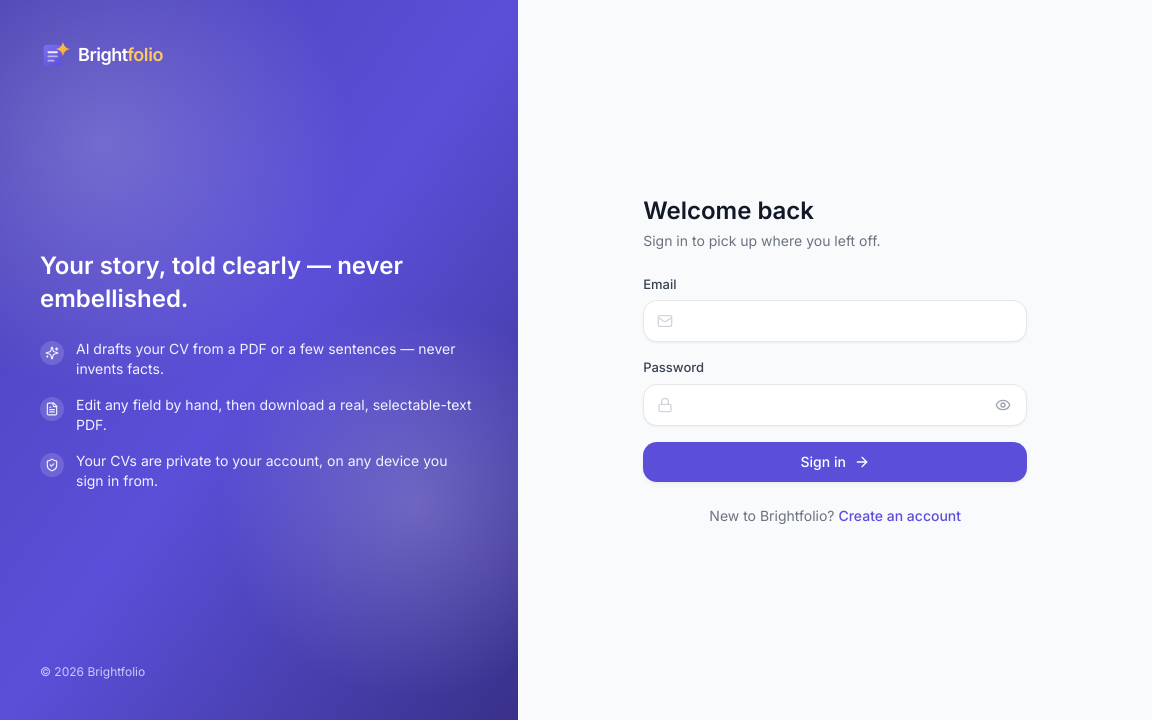
Test: LoginPage › shows the server's error message when sign-in fails
The width and height of the screenshot is (1152, 720).
Type "jane@example.com" into the field labelled "Email" at point(835, 321), box [643,300,1027,342]
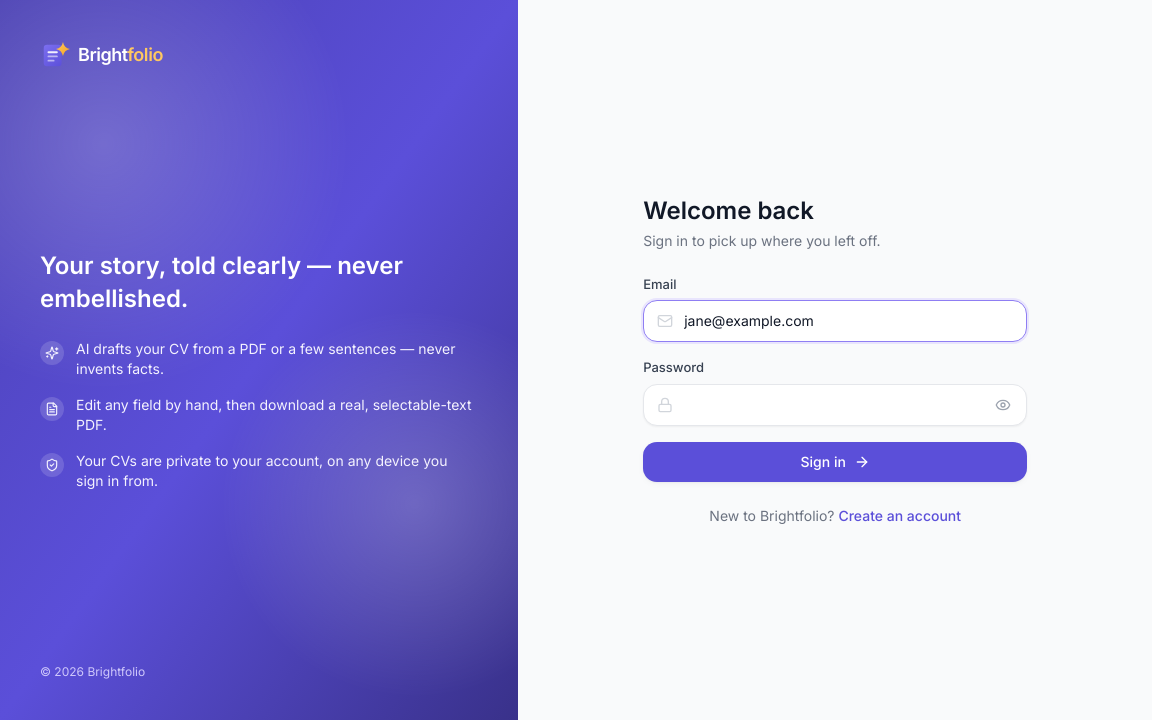
Type "wrong" into the password field labelled "Password" at point(835, 404), box [643,384,1027,426]
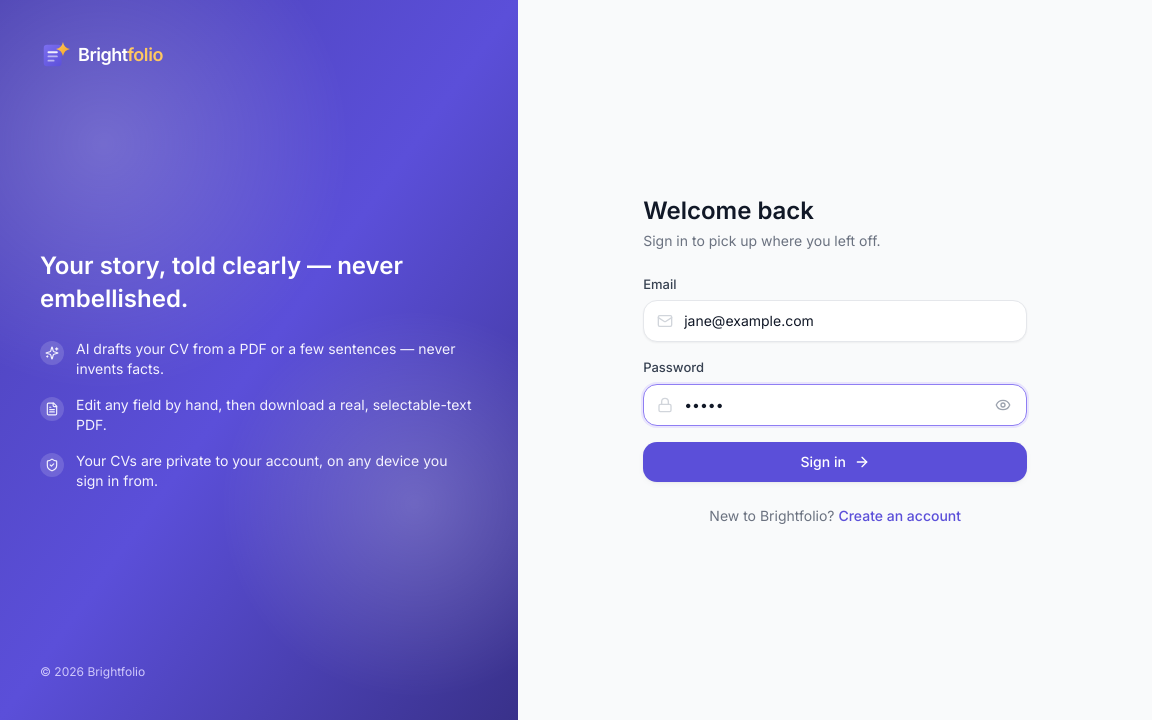
Click the button "Sign in" at point(835, 462), box [643,442,1027,482]
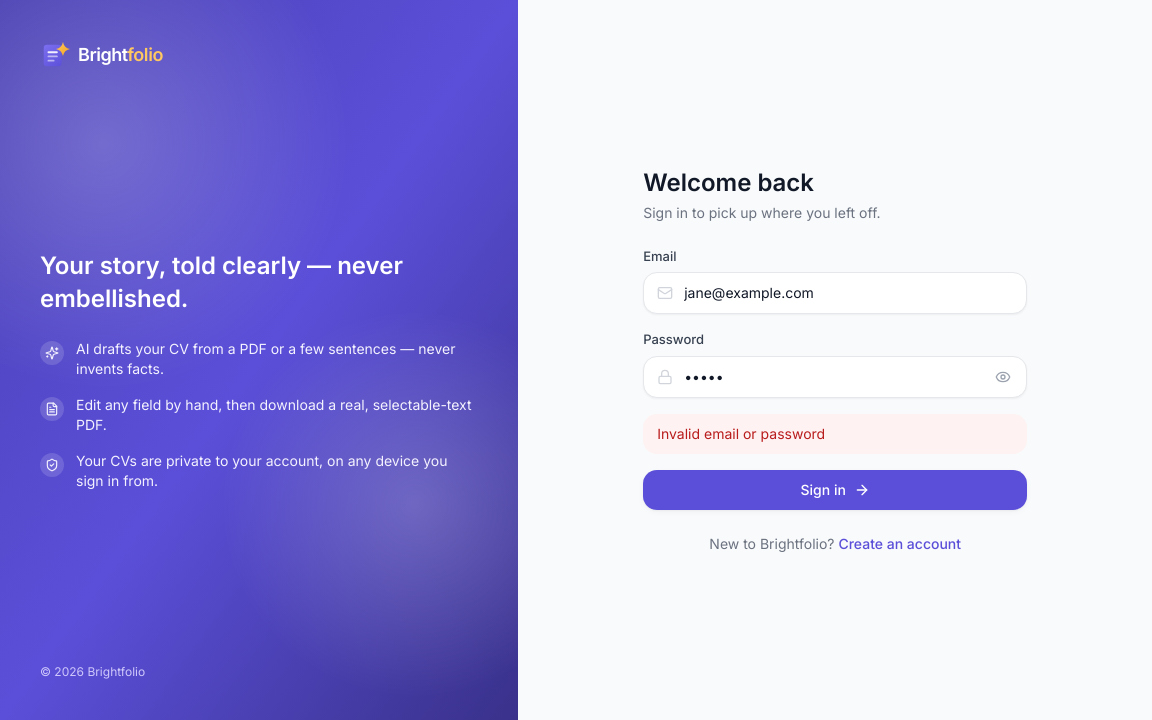
Expected: the text "Invalid email or password" is shown, [643,414,1027,454]
